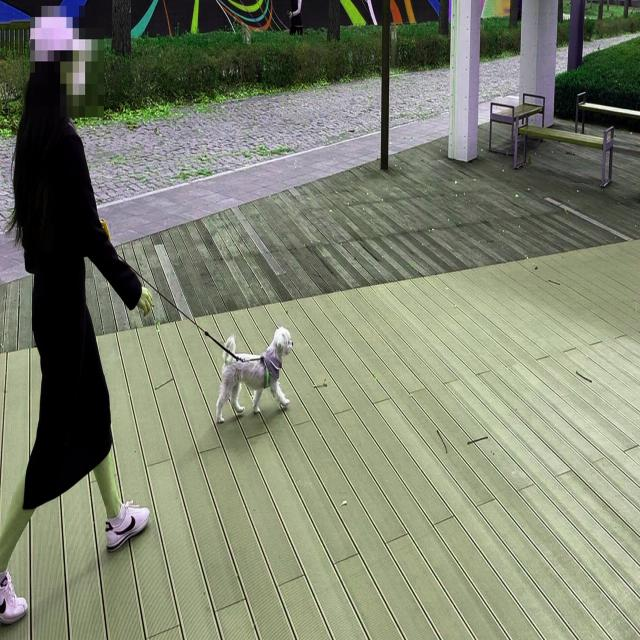Leashed_Dog: (42, 219, 293, 425)
